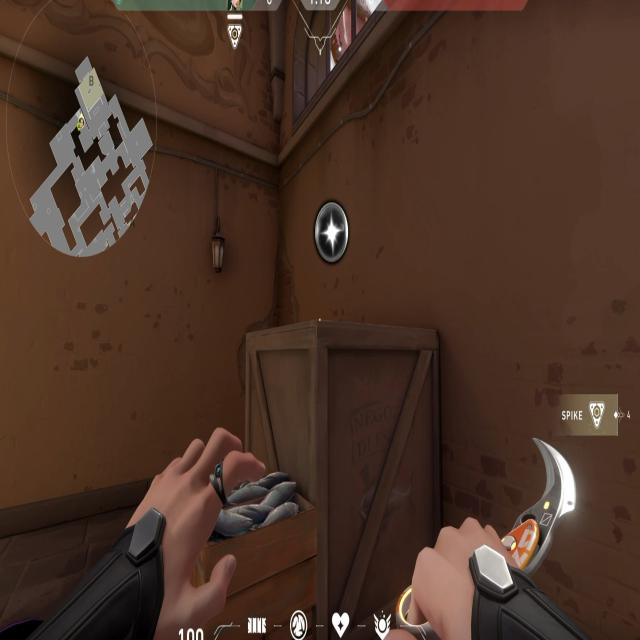B_Main_Wallbang: (235, 182, 449, 640)
